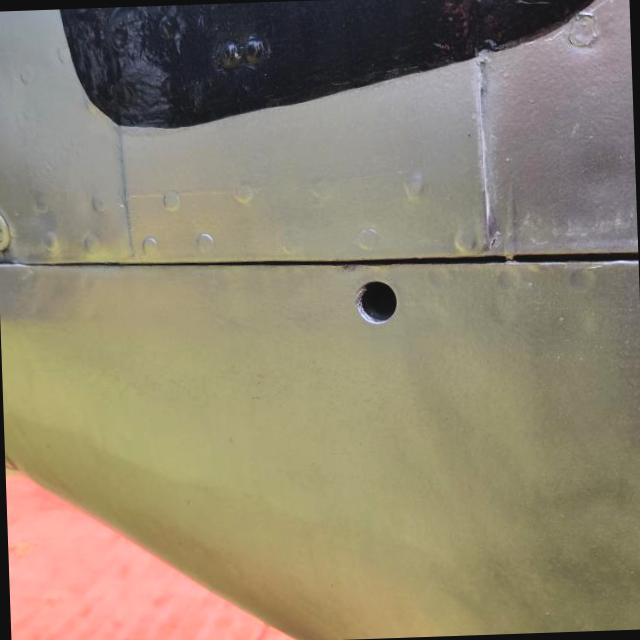Missing Fastener: (355, 280, 396, 322)
